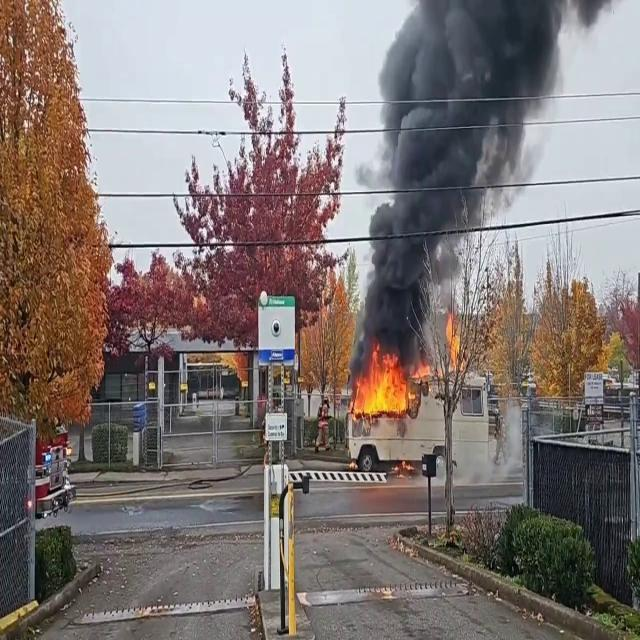Fire: (348, 348, 426, 417), (444, 309, 465, 379)
Smoke: (356, 0, 568, 354)
